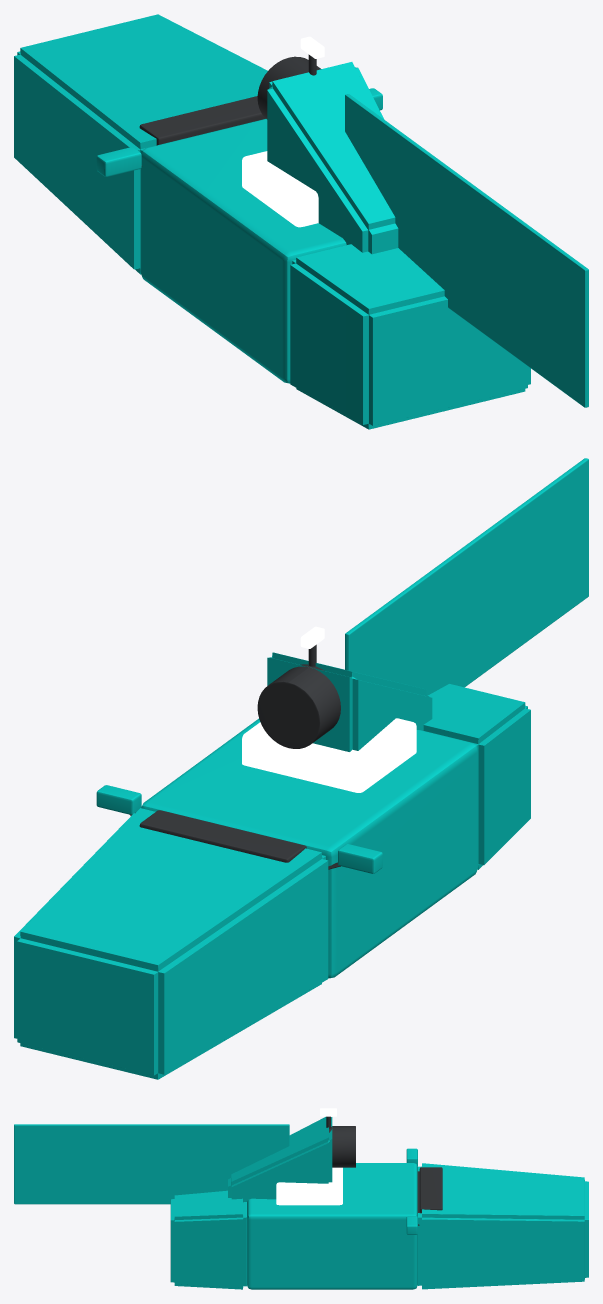
The model's file is f1_monocoque_t800.glb.
The picture shows the model from 3 angles, top to bottom: view 1: azimuth 30°, elevation 25°; view 2: azimuth 150°, elevation 25°; view 3: azimuth 270°, elevation 25°; orthographic projection. The views are drawn at different scales.
Visible parts, largest first — view 1: F1_Monocoque_T800; view 2: F1_Monocoque_T800; view 3: F1_Monocoque_T800.
Boxes of the visible parts, <box> form: F1_Monocoque_T800: <box>14,14,588,429</box>; F1_Monocoque_T800: <box>14,458,588,1079</box>; F1_Monocoque_T800: <box>14,1108,588,1289</box>.
Size of the model in its own units: 0.97 by 0.8975 by 3.02.
